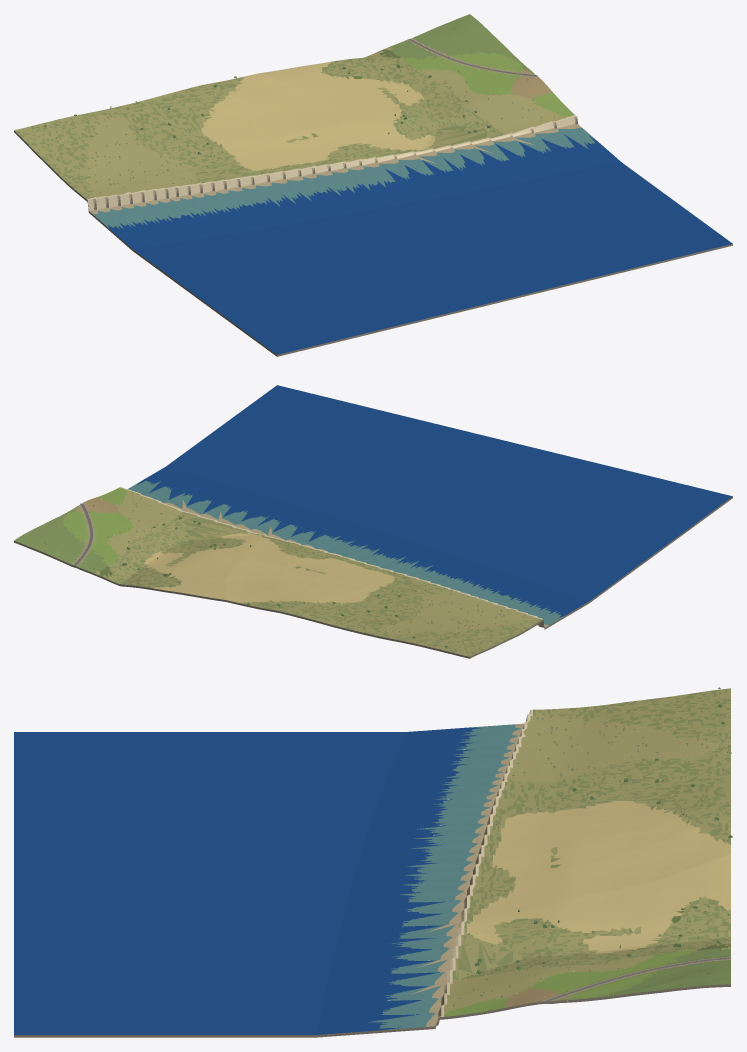
The model's file is parca_-2_-6-yakin.glb.
3 views of the same model, one above another, from view 1: azimuth 30°, elevation 25°; view 2: azimuth 150°, elevation 25°; view 3: azimuth 270°, elevation 25° (orthographic). The views are drawn at different scales.
Parts seen in each view (by area): view 1: parca_-2_-6_arazi, parca_-2_-6_bitkiler; view 2: parca_-2_-6_arazi, parca_-2_-6_bitkiler; view 3: parca_-2_-6_arazi, parca_-2_-6_bitkiler.
Boxes of the visible parts, <box> form: parca_-2_-6_arazi: <box>14,14,732,356</box>; parca_-2_-6_bitkiler: <box>18,28,554,194</box>; parca_-2_-6_arazi: <box>14,385,732,658</box>; parca_-2_-6_bitkiler: <box>44,493,531,653</box>; parca_-2_-6_arazi: <box>14,688,730,1037</box>; parca_-2_-6_bitkiler: <box>453,687,732,1006</box>.
Bounding box in the file's own units: 1003 × 81.79 × 1003.
